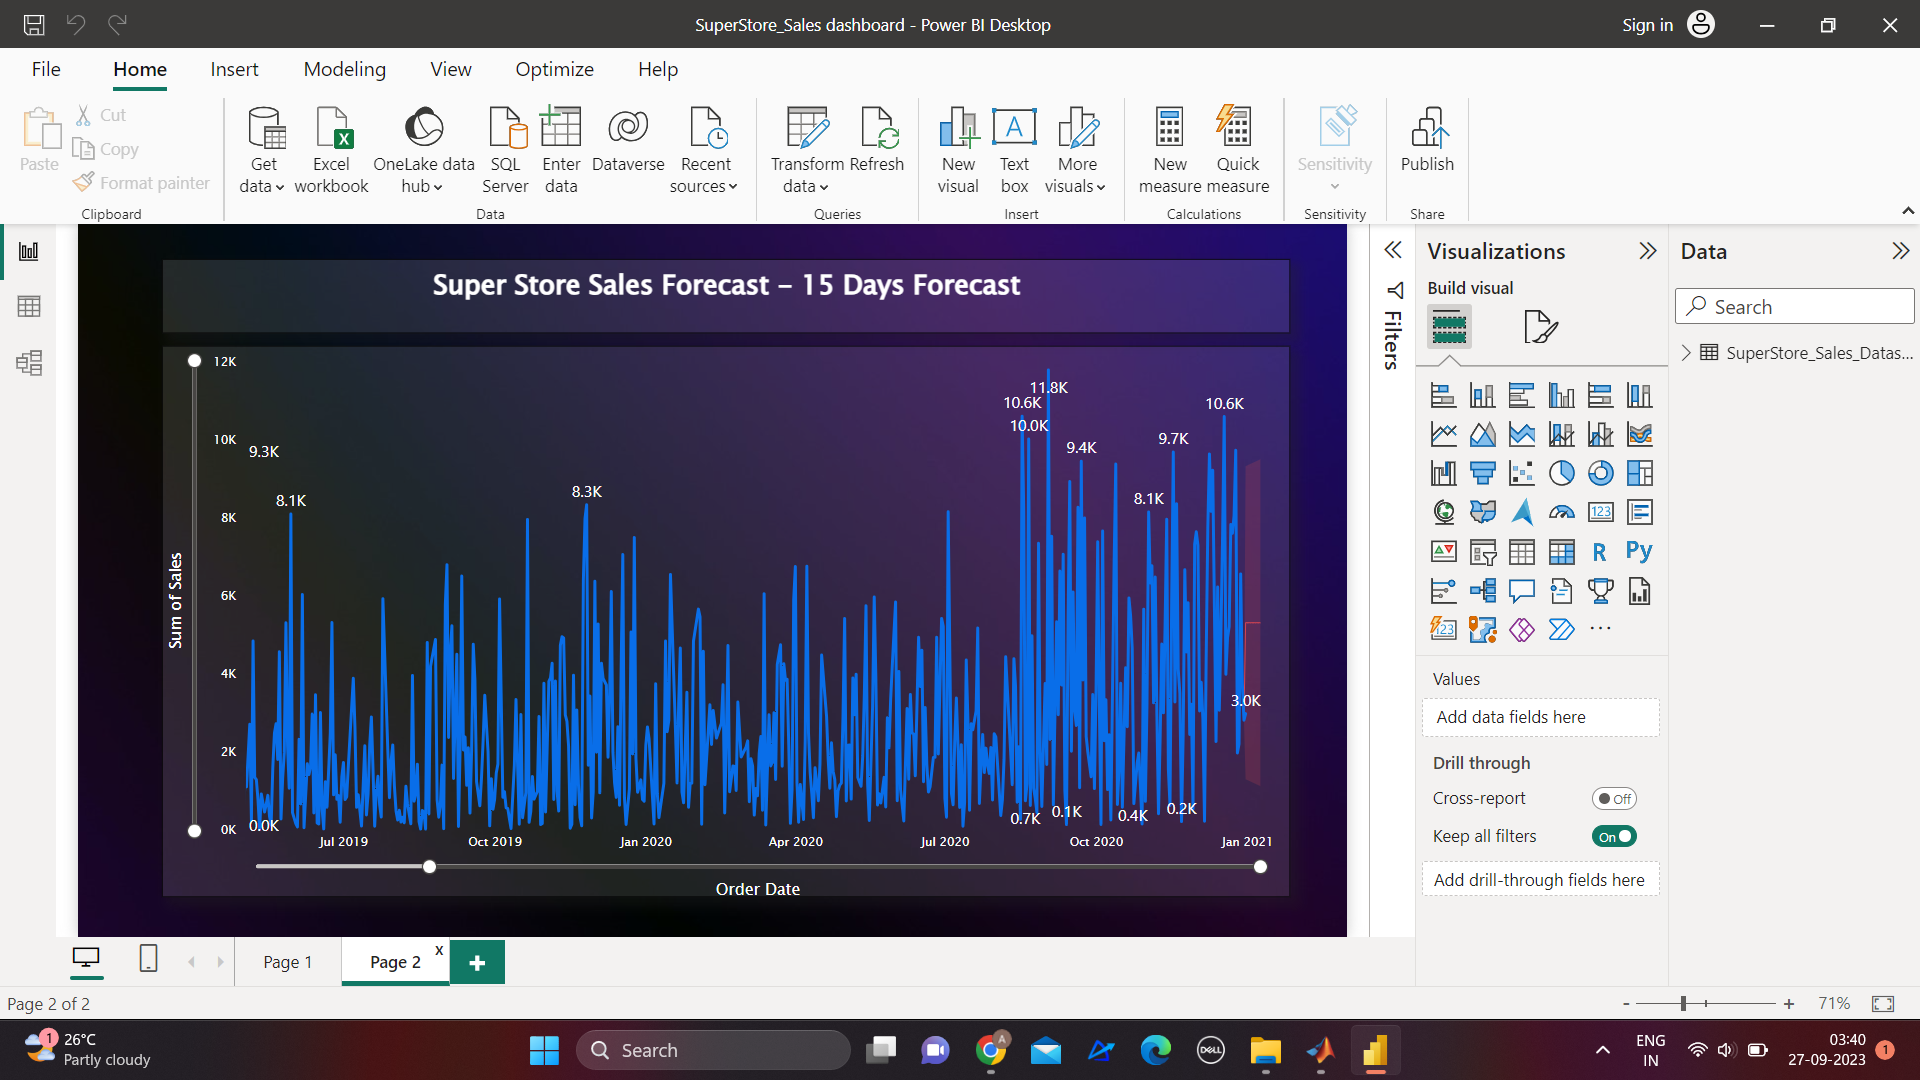

What the dashboard file says about the page in this screenshot:
{"tool":"powerbi","page":{"name":"Page 2","canvas":[1280,720],"ordinal":1},"visuals":[{"type":"lineChart","fields":{"Y":["Sum(SuperStore_Sales_Dataset.Sales)"],"Category":["SuperStore_Sales_Dataset.Order Date"]},"box":[84.8,122.9,1138.8,556.7],"z":0},{"type":"textbox","box":[84.8,35.3,1138.8,74.9],"z":1}]}

Visuals, with their boxes on the page's 1280x720 design canvas (x1, y1, x2, y2). These are canvas units, not pixel positions in the 1920x1080 screenshot, which may show the page scaled, cropped or inside an application window:
lineChart - Sum(SuperStore_Sales_Dataset.Sales) x SuperStore_Sales_Dataset.Order Date: box(85, 123, 1224, 680)
textbox: box(85, 35, 1224, 110)
